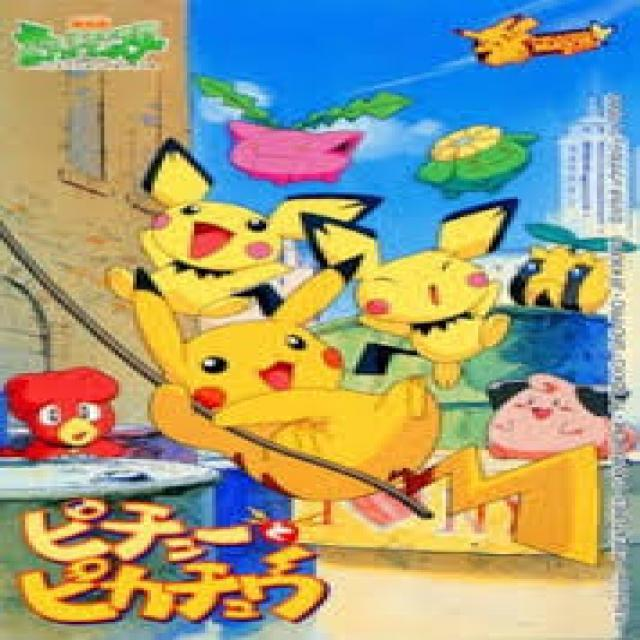pichu: (327, 193, 537, 379), (123, 154, 330, 318)
